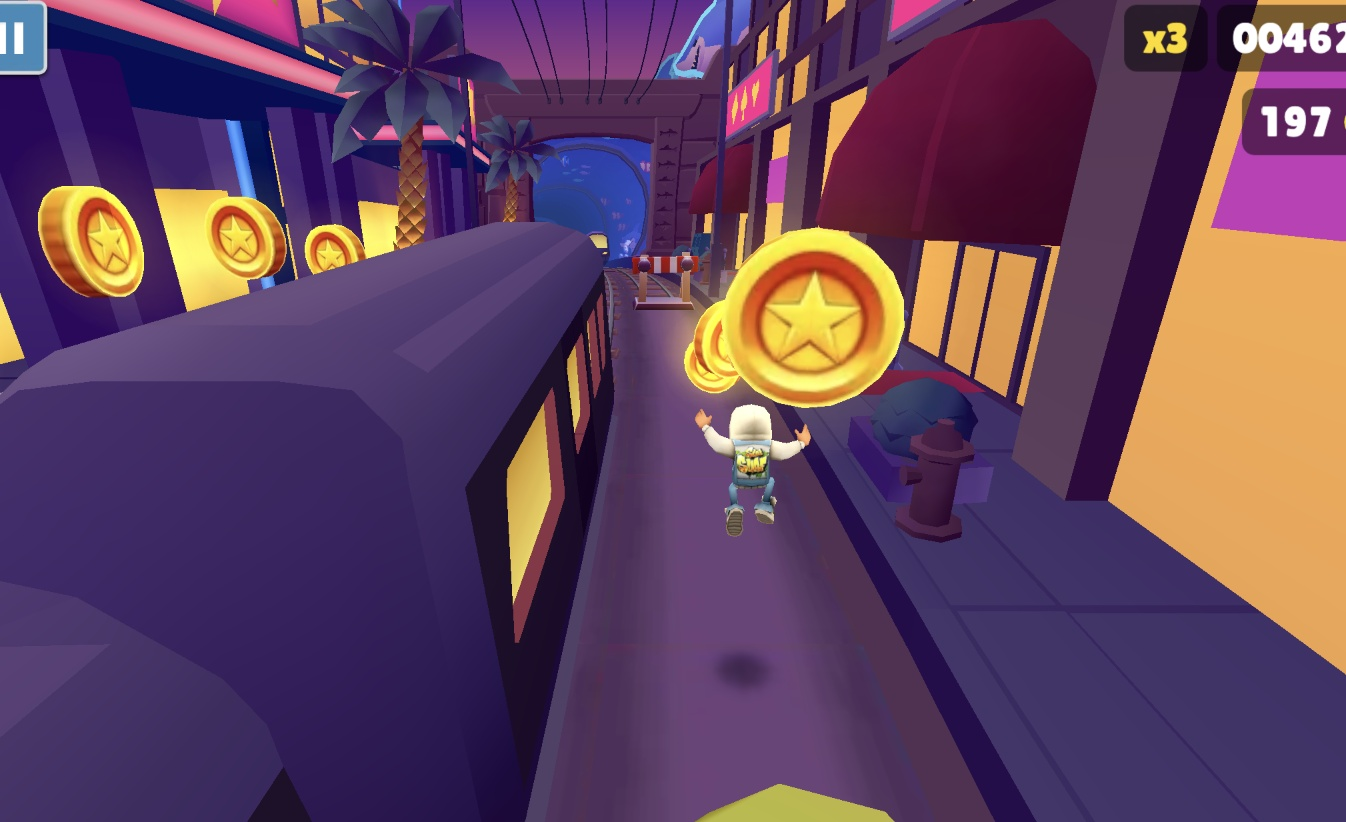bush: (693, 783, 907, 822)
ground_barrier: (632, 253, 701, 311)
train: (0, 222, 608, 822), (590, 231, 609, 260)
